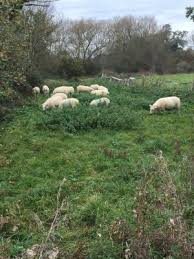sheep: (149, 95, 182, 115), (39, 92, 66, 112), (53, 99, 84, 111), (90, 84, 111, 98), (51, 85, 77, 96), (75, 82, 95, 96), (89, 97, 111, 107), (31, 83, 42, 96), (41, 84, 50, 96)
